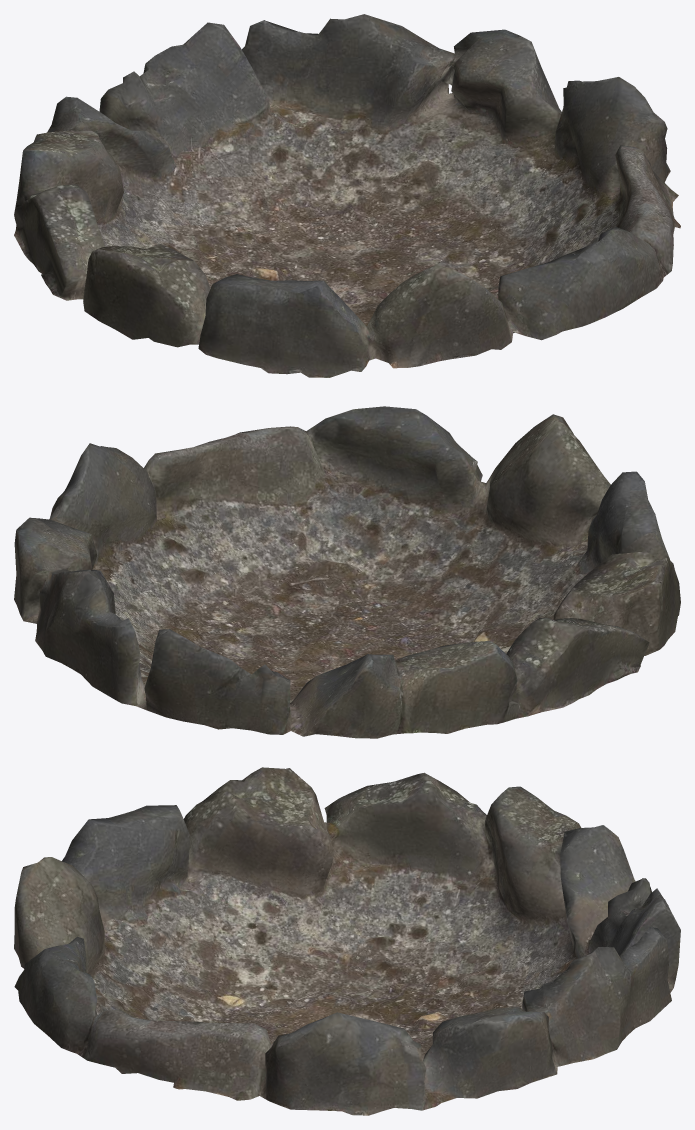
The model's file is stone_fire_pit.gltf.
The picture shows the model from 3 angles, top to bottom: view 1: azimuth 30°, elevation 25°; view 2: azimuth 150°, elevation 25°; view 3: azimuth 270°, elevation 25°; orthographic projection.
Visible parts, largest first — view 1: stone_fire_pit; view 2: stone_fire_pit; view 3: stone_fire_pit.
Part boxes in pixels (left/top/right/bottom): stone_fire_pit: left=14, top=14, right=680, bottom=377; stone_fire_pit: left=14, top=406, right=680, bottom=738; stone_fire_pit: left=14, top=767, right=680, bottom=1115.
Size of the model in its own units: 1.45 by 0.3883 by 1.43.
1 material, 1 textured.
